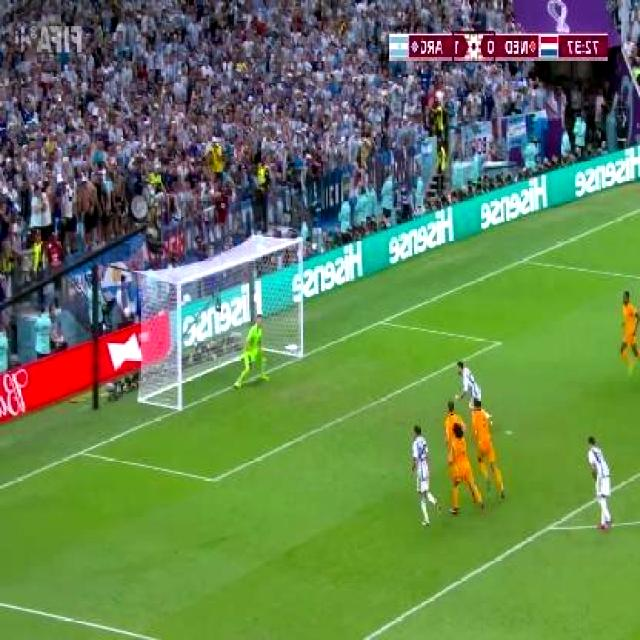bigarea_top_outter: (514, 246, 534, 272)
bottom_arc_area_intersection: (537, 509, 565, 545)
smallarea_bottom_inner: (202, 458, 230, 498)
smallarea_bottom_outter: (71, 437, 95, 466)
smallarea_top_inner: (488, 328, 512, 357)
smallarea_top_outter: (371, 308, 394, 335)
